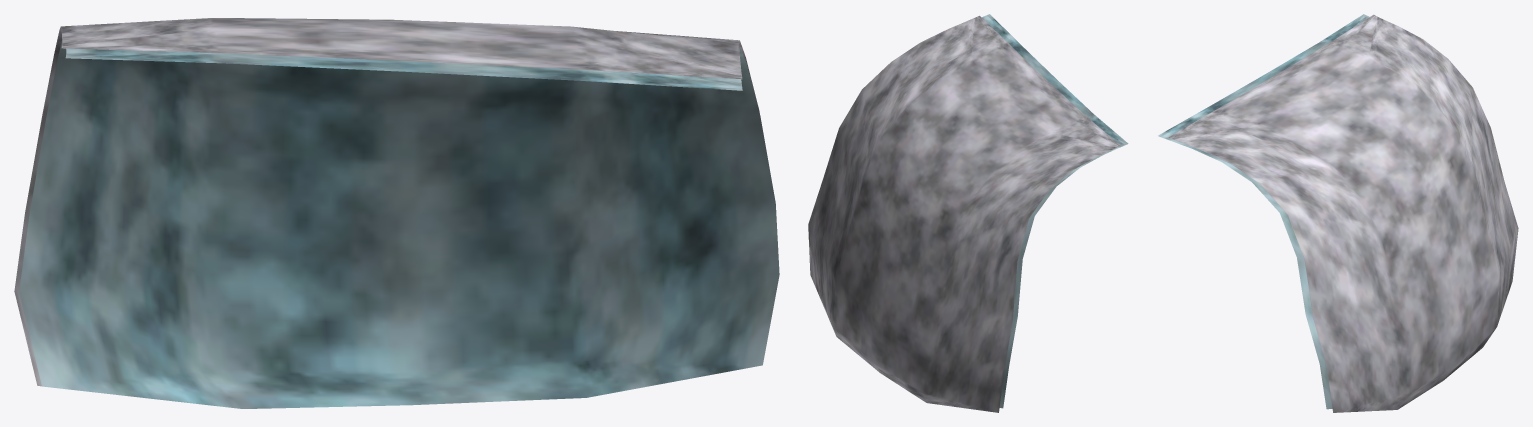
The model's file is CB_NEWPLAYSURFACE_CB_WATERFALLS15.fbx.
3 renders of one model, left to right at view 1: azimuth 30°, elevation 25°; view 2: azimuth 150°, elevation 25°; view 3: azimuth 270°, elevation 25°, orthographic. The views are drawn at different scales.
Visible parts, largest first — view 1: CB_NEWPLAYSURFACE_CB_WATERFALLS15; view 2: CB_NEWPLAYSURFACE_CB_WATERFALLS15; view 3: CB_NEWPLAYSURFACE_CB_WATERFALLS15.
Boxes of the visible parts, x1,y1,x2,y2 form: CB_NEWPLAYSURFACE_CB_WATERFALLS15: [14, 18, 779, 408]; CB_NEWPLAYSURFACE_CB_WATERFALLS15: [808, 14, 1128, 412]; CB_NEWPLAYSURFACE_CB_WATERFALLS15: [1158, 14, 1518, 412].
Bounding box in the file's own units: 82770 × 59127 × 73973.
2 materials, 2 textured.
